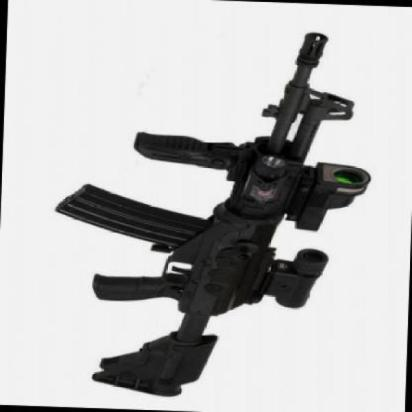Gun: (56, 31, 373, 398)
